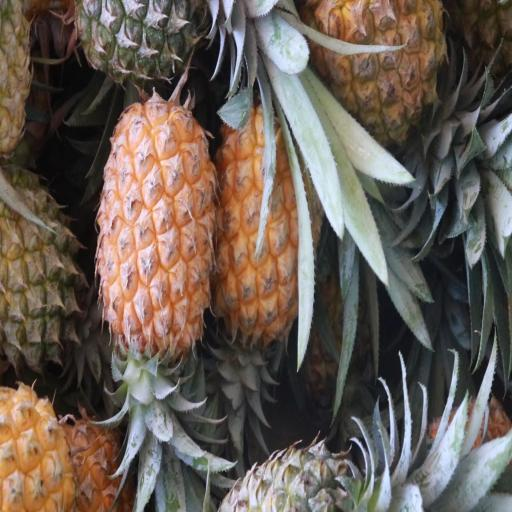------------------------------: (0, 176, 83, 363)
Pineapple - v8 v1: (96, 101, 216, 355), (212, 104, 318, 338), (314, 0, 447, 155)
